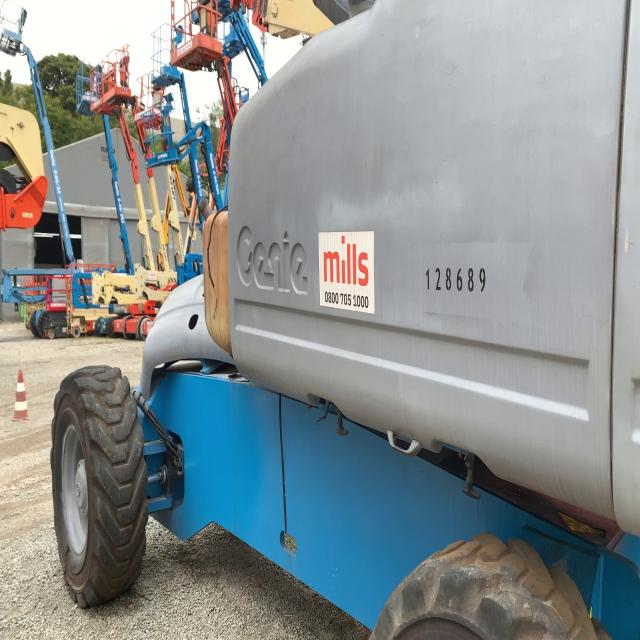Adesivos: (317, 229, 376, 315)
